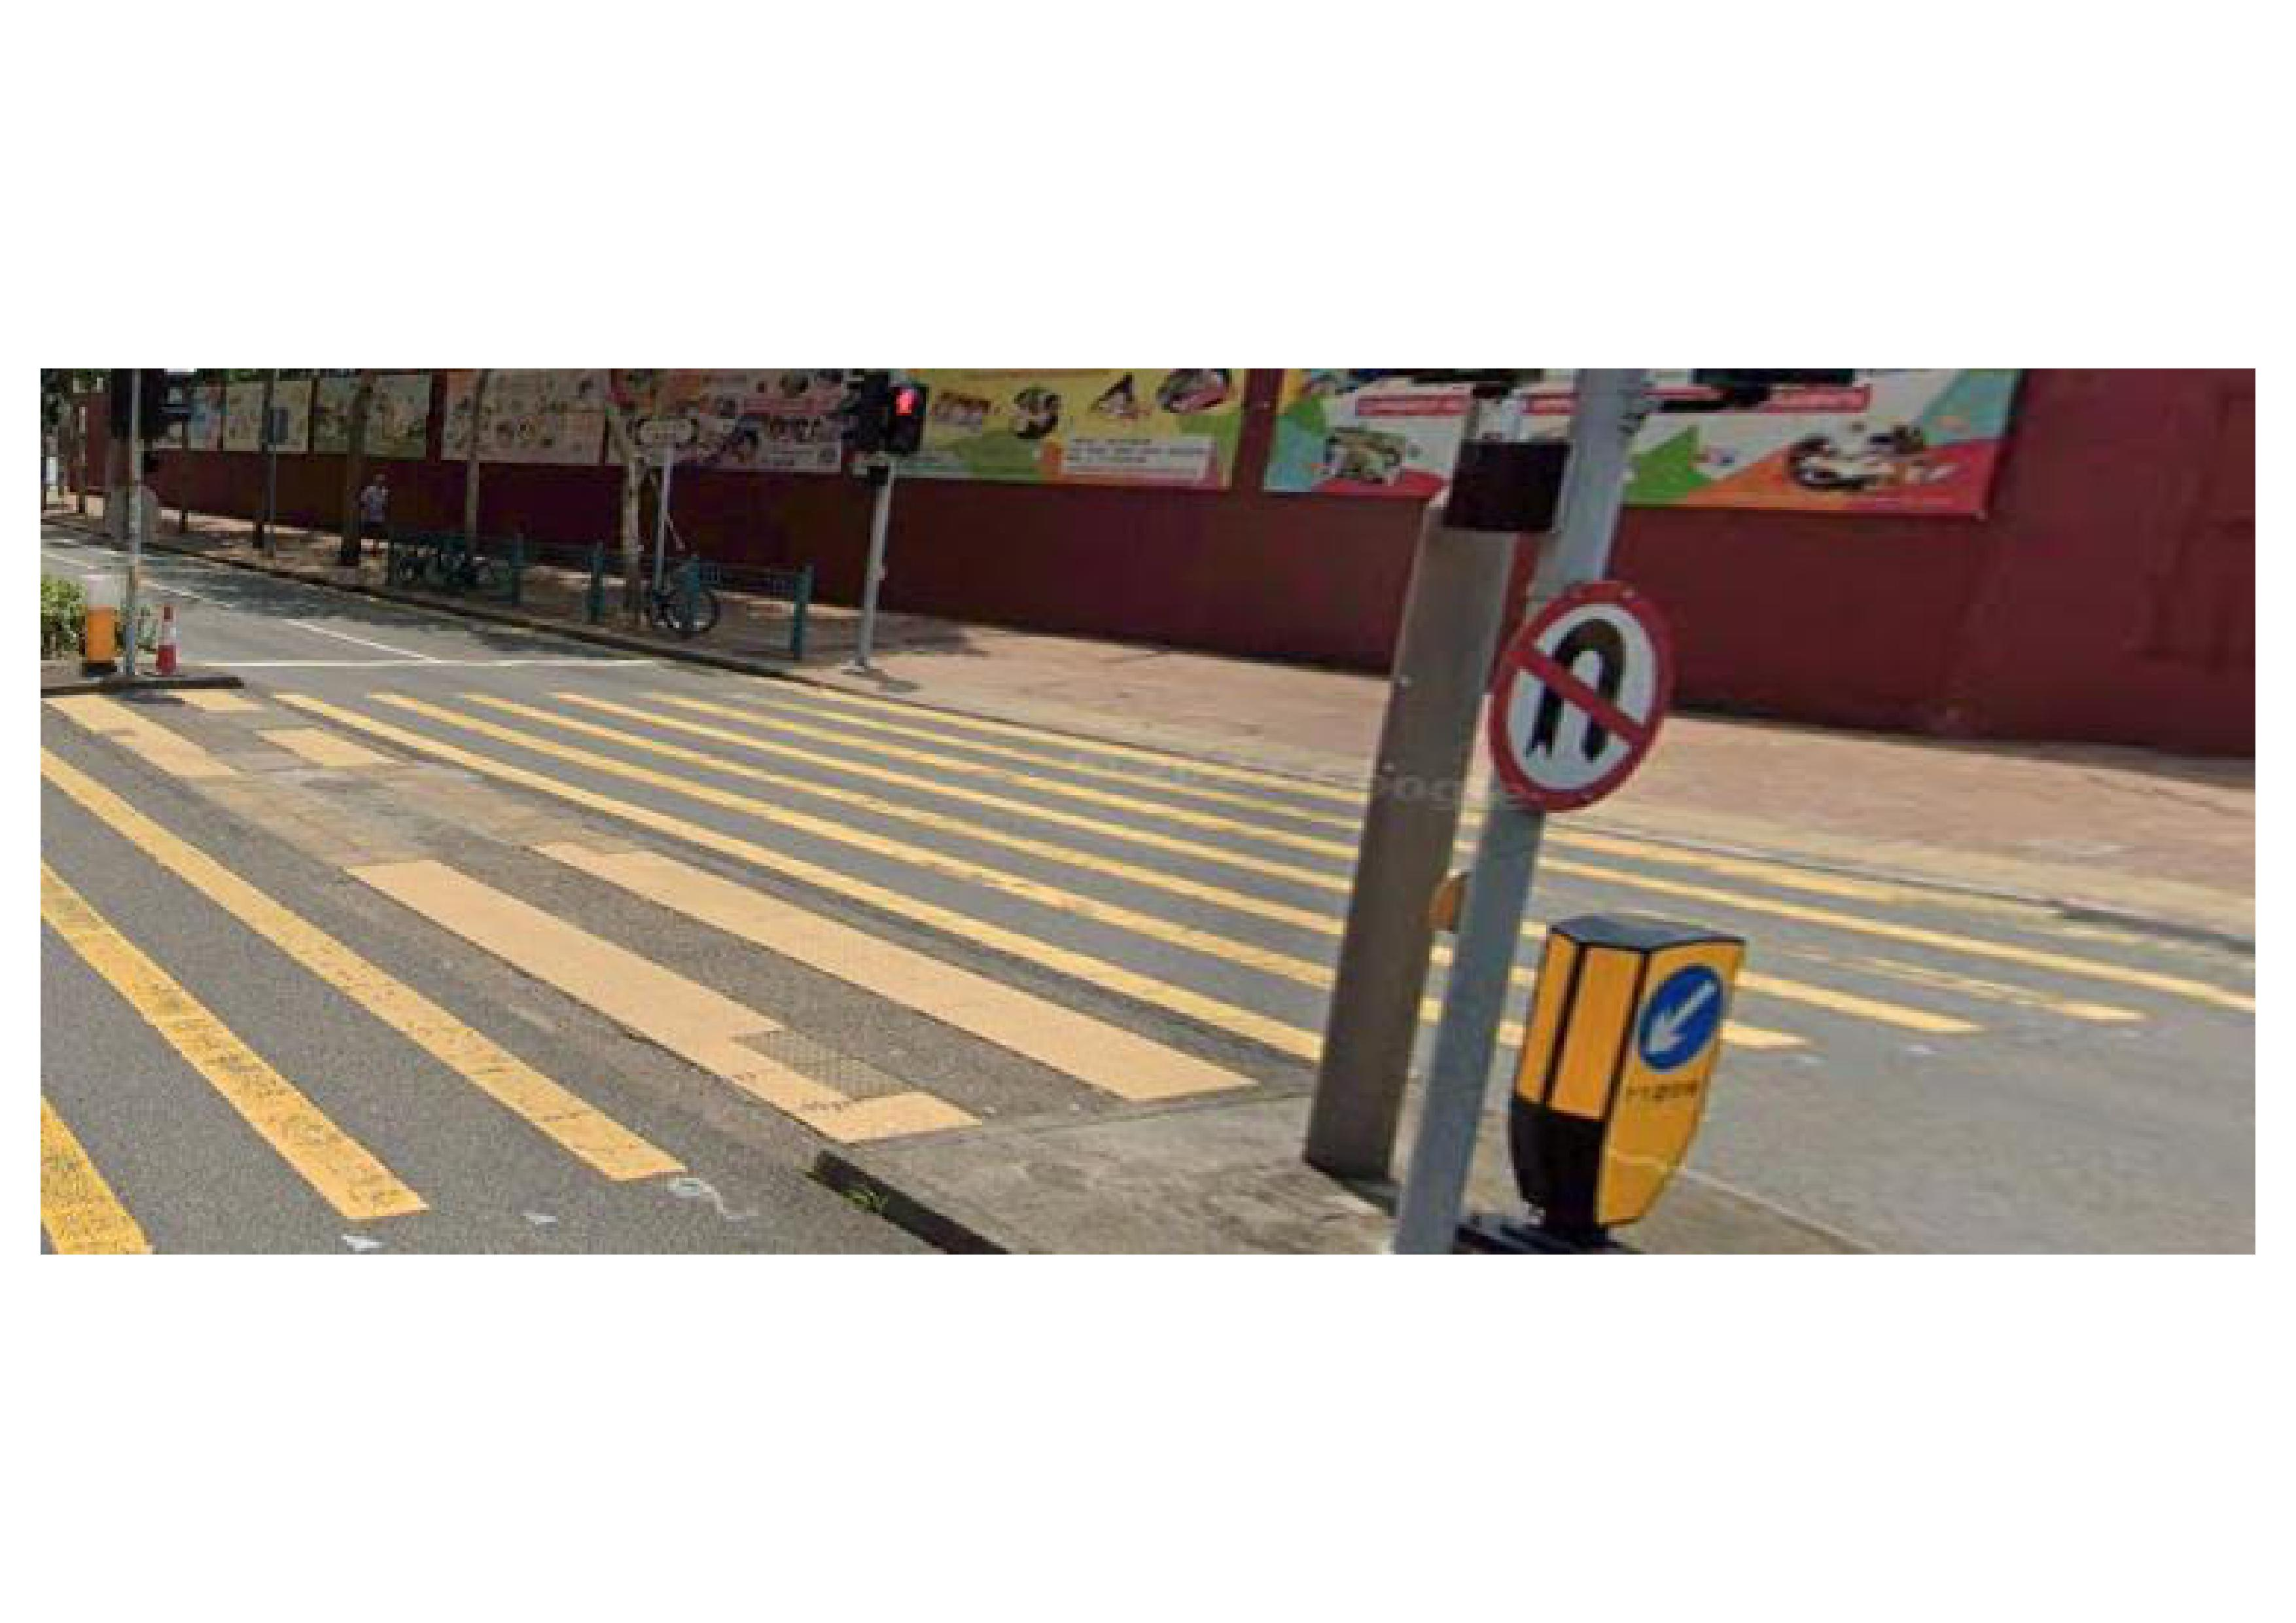No Uturn: (1480, 580, 1675, 824)
